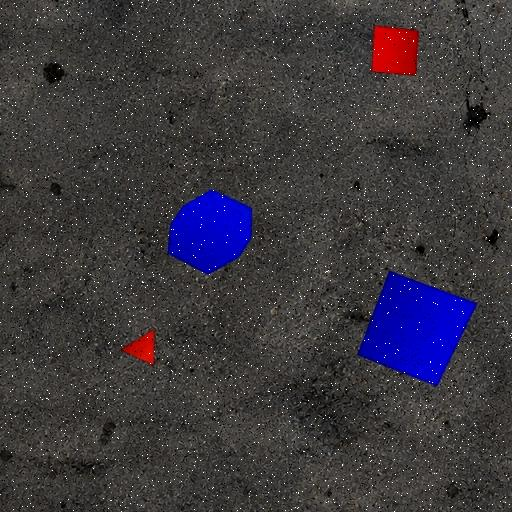BLUE_SQUARE: (356, 270, 478, 388)
RED_SQUARE: (371, 25, 419, 76)
